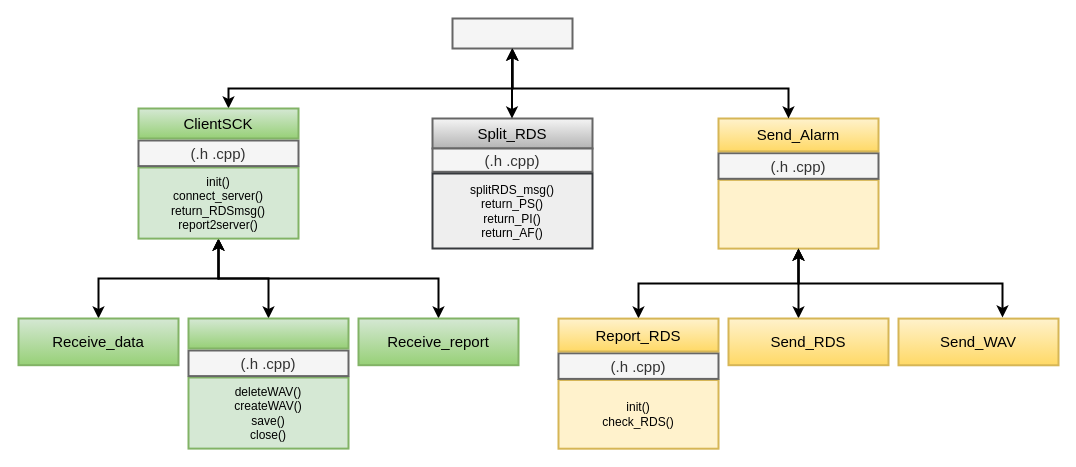
This 1076x467 diagram has some shape labels left out. Each missing label, with the box of its shape:
Main: (451, 17, 573, 49)
Save_WAV: (187, 317, 349, 349)
sending() result_report(): (717, 178, 879, 249)
